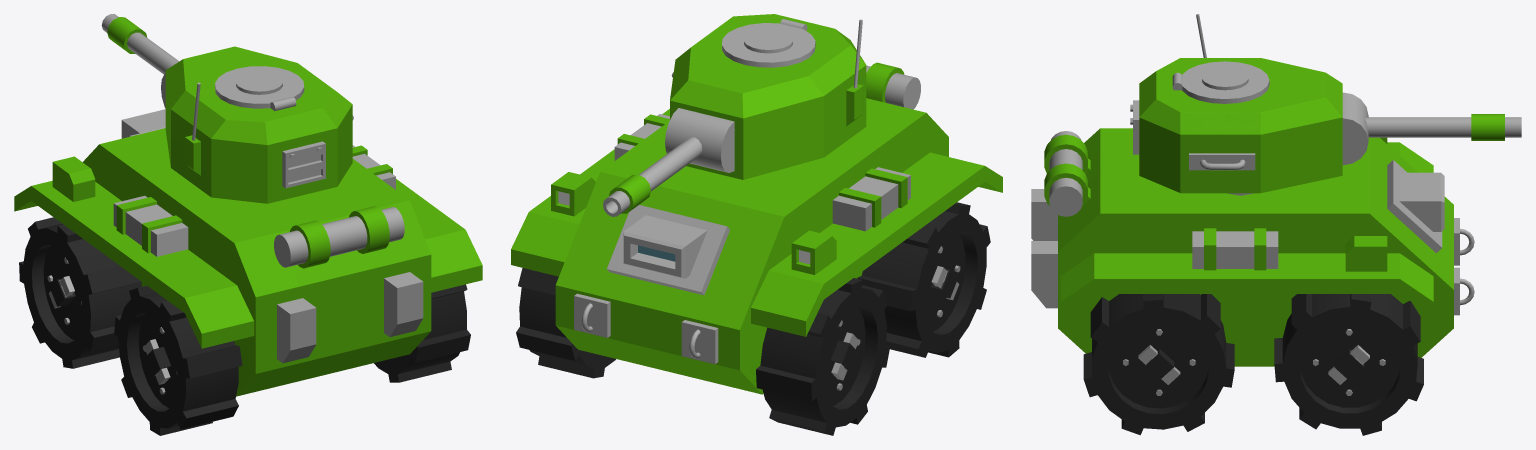
The model's file is TankkS.fbx.
3 renders of one model, left to right at view 1: azimuth 30°, elevation 25°; view 2: azimuth 150°, elevation 25°; view 3: azimuth 270°, elevation 25°, orthographic. The views are drawn at different scales.
Visible parts, largest first — view 1: polySurface36, polySurface59, polySurface92, TankFree_Canon; view 2: polySurface36, polySurface59, polySurface92, TankFree_Canon; view 3: polySurface36, polySurface59, polySurface92, TankFree_Canon.
Part boxes in pixels (x1,y1,x2,y2): polySurface36: (14,109,482,396); polySurface59: (19,217,470,435); polySurface92: (161,46,353,203); TankFree_Canon: (101,14,178,74); polySurface36: (511,62,1002,394); polySurface59: (516,202,990,435); polySurface92: (665,14,866,179); TankFree_Canon: (603,137,702,216); polySurface36: (1031,128,1474,366); polySurface59: (1083,294,1423,435); polySurface92: (1130,14,1368,195); TankFree_Canon: (1365,114,1521,140).
Size of the model in its own units: 9.31 by 10.07 by 14.13.
